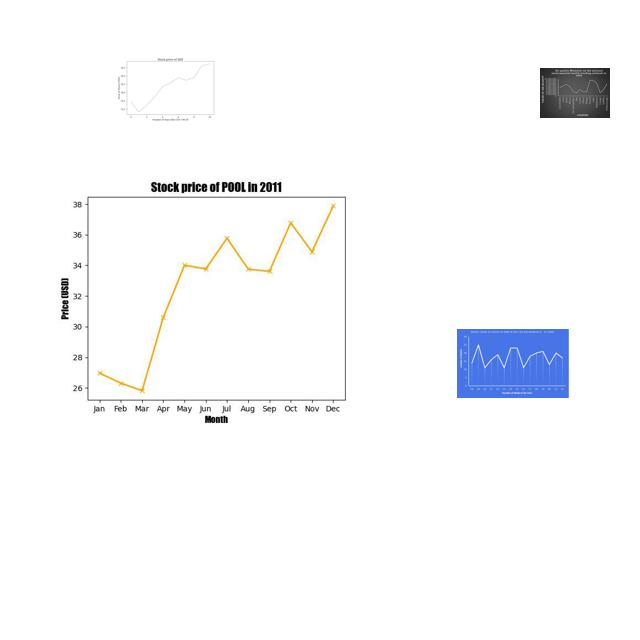Graph: (36, 165, 388, 429), (113, 49, 225, 126), (457, 329, 569, 398), (540, 68, 610, 118)
